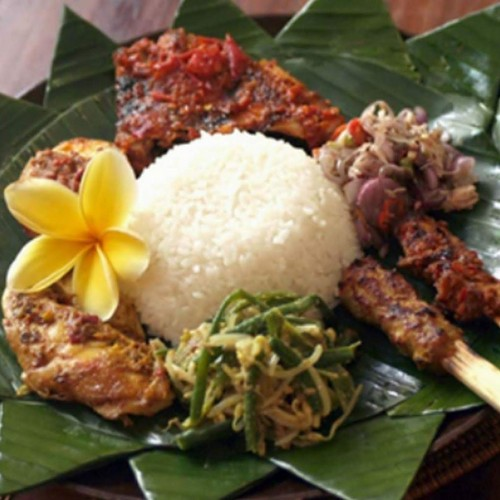nasi jinggo: (17, 62, 482, 450)
